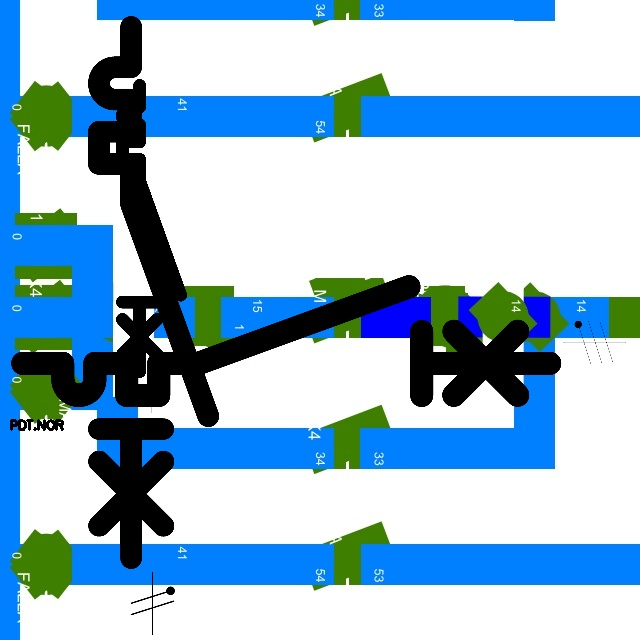interruptor_termomagnetico: (85, 13, 222, 571), (9, 273, 563, 409), (115, 78, 188, 379)
